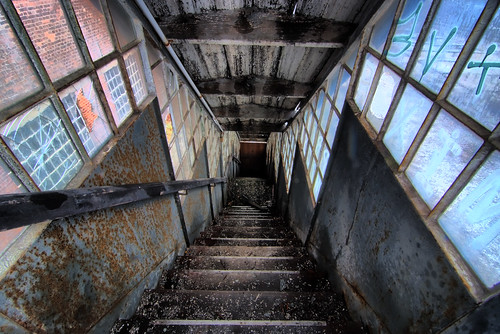graffiti: (384, 7, 500, 103)
window: (355, 1, 497, 294), (1, 1, 144, 239)
